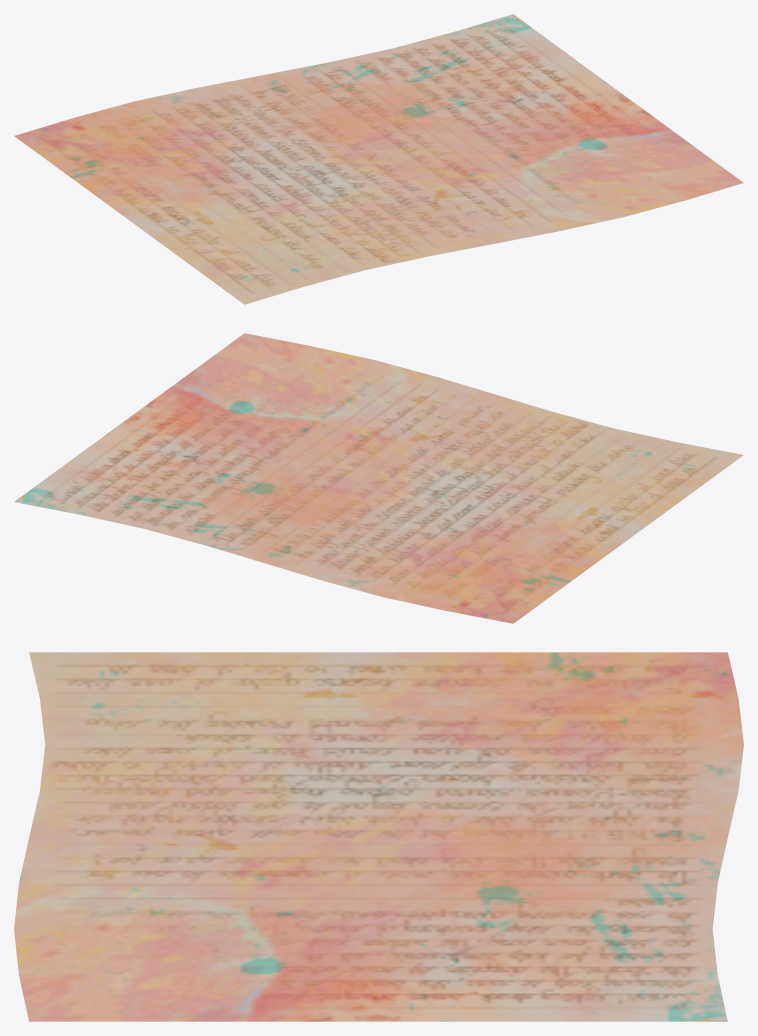
The model's file is SM_Paper_05.fbx.
3 renders of one model, top to bottom at view 1: azimuth 30°, elevation 25°; view 2: azimuth 150°, elevation 25°; view 3: azimuth 270°, elevation 25°, orthographic. The views are drawn at different scales.
Visible parts, largest first — view 1: SM_Paper_05_LOD0; view 2: SM_Paper_05_LOD0; view 3: SM_Paper_05_LOD0.
Part boxes in pixels (<box>): SM_Paper_05_LOD0: <box>14,14,743,304</box>; SM_Paper_05_LOD0: <box>14,333,743,623</box>; SM_Paper_05_LOD0: <box>14,652,743,1021</box>.
Size of the model in its own units: 22.21 by 18.56 by 2.68e-07.
1 material, 1 textured.
